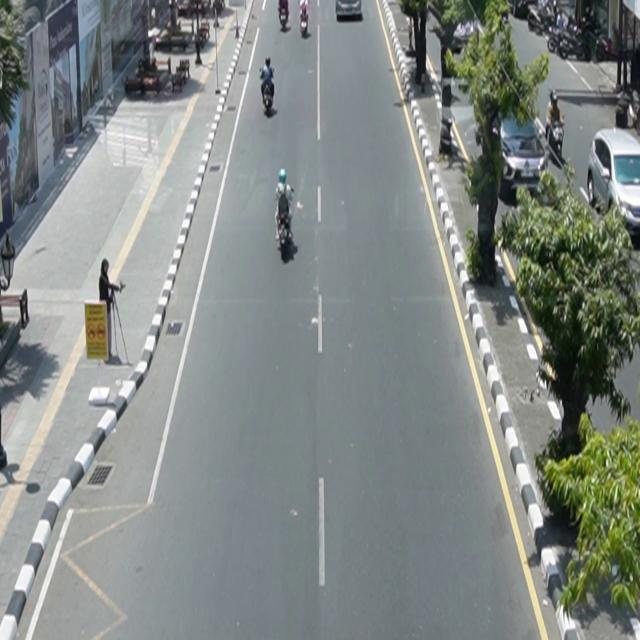car: (587, 126, 640, 240), (336, 1, 363, 20)
